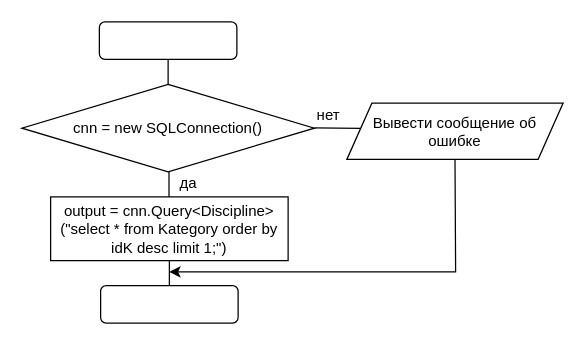
Some shapes in this 585 by 345 pixel diagram are drawn without their labels. The shapes that lost their labels are listed below. From the top down, each one's centre as x and y in pixels, then its label:
the point at 167,40: Начало
the point at 168,303: Конец
